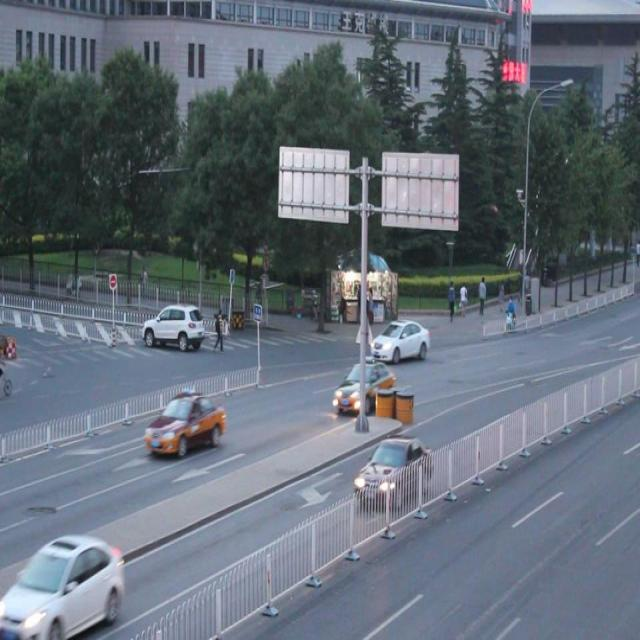car: (12, 534, 125, 633), (355, 436, 433, 506), (146, 392, 225, 457), (332, 357, 397, 418), (372, 315, 430, 365), (141, 303, 202, 350)
